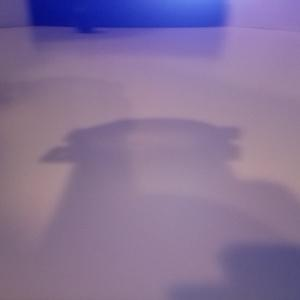dead_ball: (70, 3, 99, 32)
